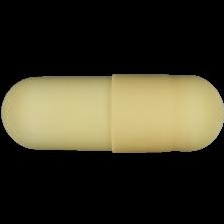49999-190: (0, 0, 224, 224)
